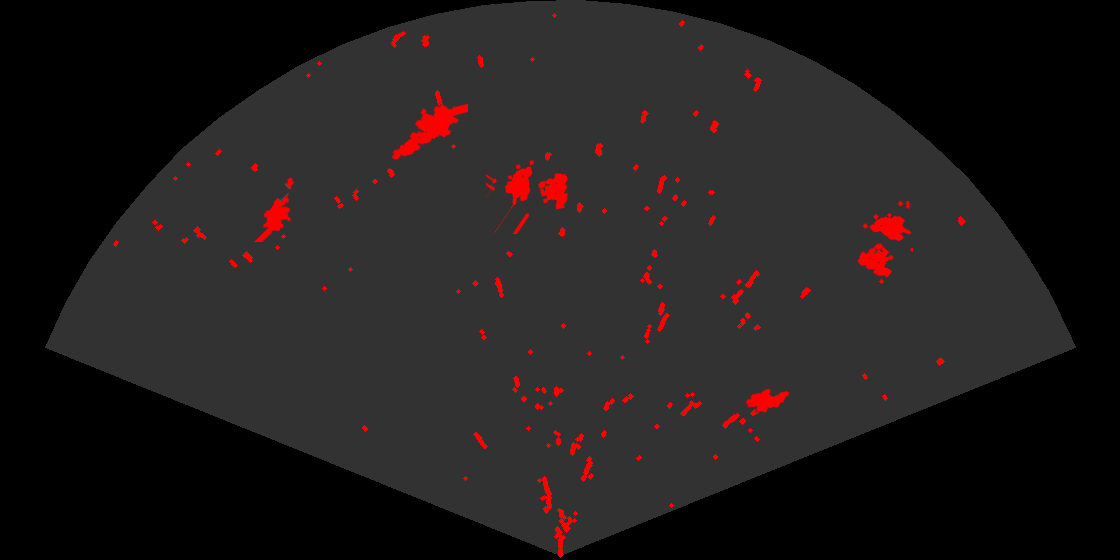AUV: (744, 387, 791, 414)
cage: (486, 159, 570, 234), (856, 201, 913, 279)
frogman: (390, 102, 468, 162), (252, 176, 296, 242)
